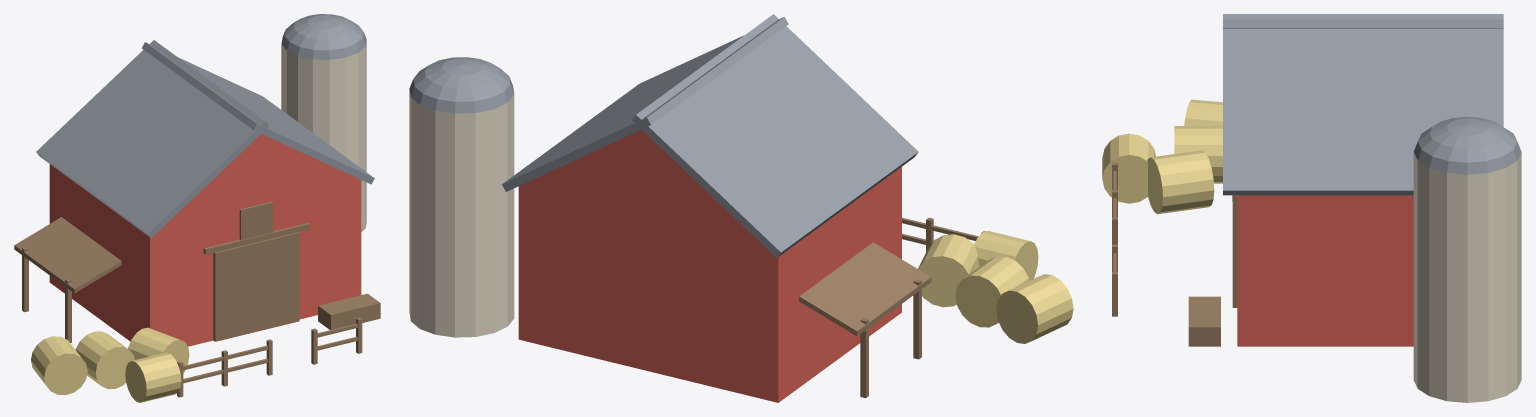
The model's file is farmstead.glb.
3 views of the same model, side by side, from view 1: azimuth 30°, elevation 25°; view 2: azimuth 150°, elevation 25°; view 3: azimuth 270°, elevation 25° (orthographic). The views are drawn at different scales.
Visible parts, largest first — view 1: Farmstead; view 2: Farmstead; view 3: Farmstead.
Part boxes in pixels (box(x1,y1,x2,y2)): Farmstead: box(14, 14, 380, 402); Farmstead: box(409, 14, 1073, 402); Farmstead: box(1102, 14, 1521, 402).
Size of the model in its own units: 17.14 by 8.14 by 11.65.
